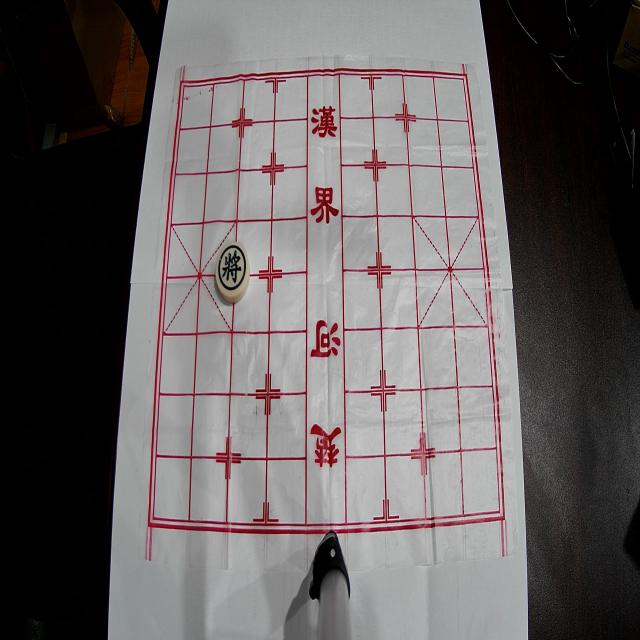black-general: (216, 242, 250, 302)
